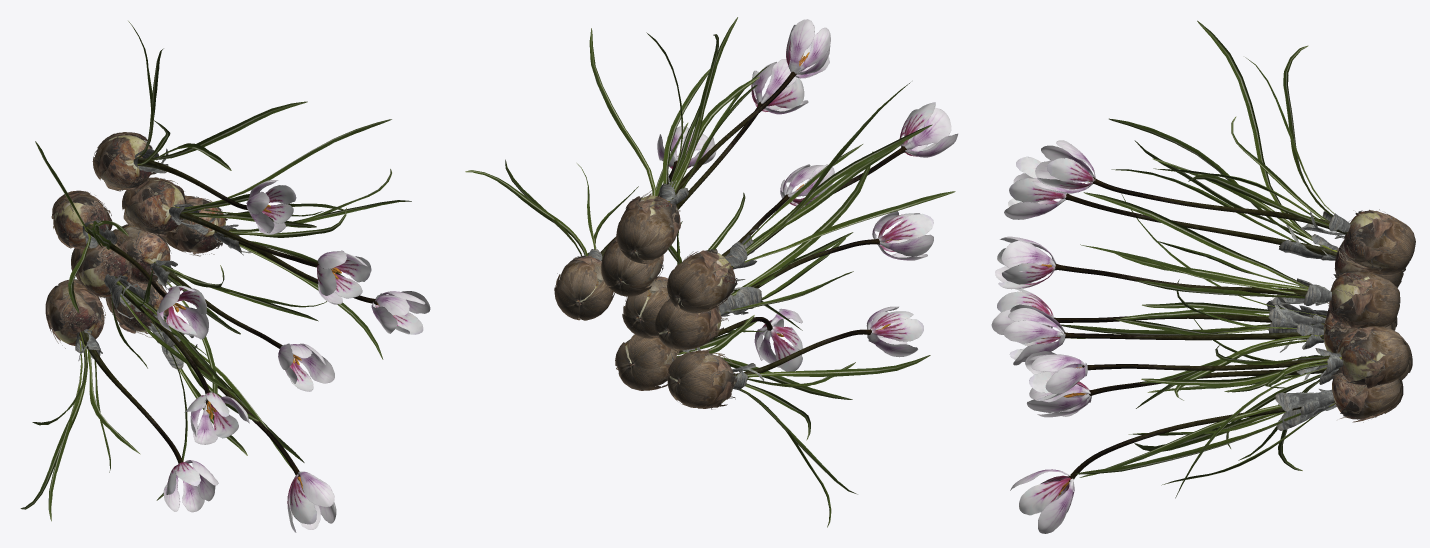
The picture shows the model from 3 angles, left to right: view 1: azimuth 30°, elevation 25°; view 2: azimuth 150°, elevation 25°; view 3: azimuth 270°, elevation 25°; orthographic projection. The views are drawn at different scales.
Visible parts, largest first — view 1: FL43Roots1, FL43Petalu4, FL43Leaf7, FL43Leaf2, FL43Petalu2, FL43Branch1, FL43Leaf5, FL43Leaf6, FL43Leaf3, FL43Leaf8, FL43Petalu3, FL43Leaf4; view 2: FL43Leaf8, FL43Leaf7, FL43Petalu4, FL43Leaf6, FL43Leaf2, FL43Petalu2, FL43Branch1, FL43Leaf5, FL43Roots1, FL43Leaf4, FL43Leaf3, FL43Petalu3; view 3: FL43Leaf7, FL43Petalu4, FL43Leaf2, FL43Branch1, FL43Petalu2, FL43Roots1, FL43Leaf8, FL43Leaf3, FL43Leaf6, FL43Leaf5, FL43Leaf4, FL43Petalu3.
Part boxes in pixels (x1,y1,x2,y2): FL43Roots1: (54,135,225,345); FL43Petalu4: (157,180,430,529); FL43Leaf7: (32,48,411,521); FL43Leaf2: (20,21,391,509); FL43Petalu2: (166,185,423,532); FL43Branch1: (79,157,377,476); FL43Leaf5: (48,135,222,331); FL43Leaf6: (48,133,233,348); FL43Leaf3: (78,148,251,369); FL43Leaf8: (45,132,227,343); FL43Petalu3: (166,264,336,513); FL43Leaf4: (75,149,239,358); FL43Leaf8: (554,193,734,409); FL43Leaf7: (505,17,955,494); FL43Petalu4: (657,19,957,367); FL43Leaf6: (556,187,737,408); FL43Leaf2: (465,34,862,527); FL43Petalu2: (668,25,935,371); FL43Branch1: (600,71,906,377); FL43Leaf5: (560,197,737,400); FL43Roots1: (559,195,735,402); FL43Leaf4: (588,183,756,390); FL43Leaf3: (667,171,764,381); FL43Petalu3: (762,78,937,337); FL43Leaf7: (1061,20,1347,498); FL43Petalu4: (991,140,1095,533); FL43Leaf2: (1114,45,1341,485); FL43Branch1: (1053,177,1347,481); FL43Petalu2: (997,156,1094,512); FL43Roots1: (1323,210,1390,419); FL43Leaf8: (1336,209,1415,422); FL43Leaf3: (1266,211,1345,430); FL43Leaf6: (1325,210,1411,421); FL43Leaf5: (1325,210,1404,419); FL43Leaf4: (1296,211,1350,415); FL43Petalu3: (997,198,1070,515).
Bounding box in the file's own units: 0.2748 × 0.2958 × 0.2314.
13 materials, 13 textured.
